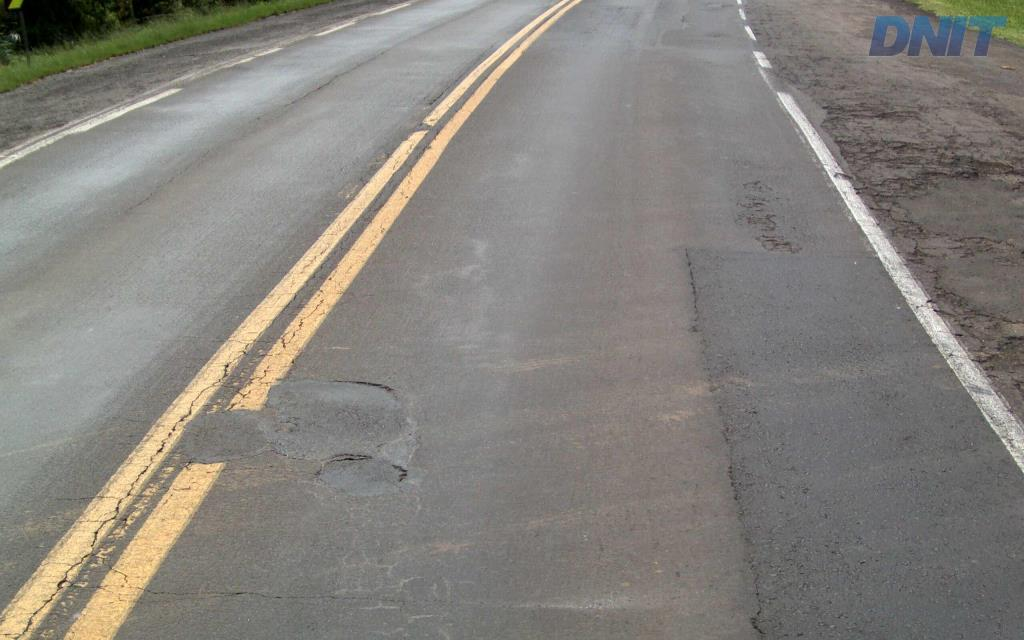crack: (720, 422, 752, 504), (755, 233, 802, 254), (734, 213, 778, 232)
pothole: (255, 367, 415, 501)
